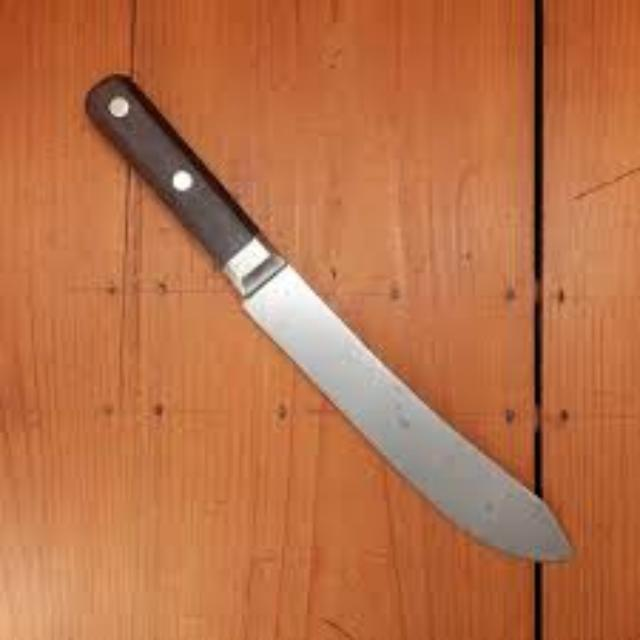knife: (83, 71, 572, 563)
